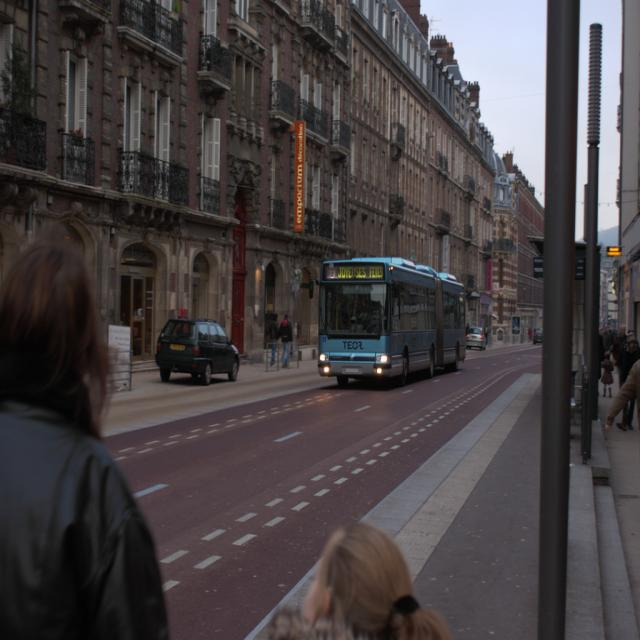car: (154, 317, 239, 381)
